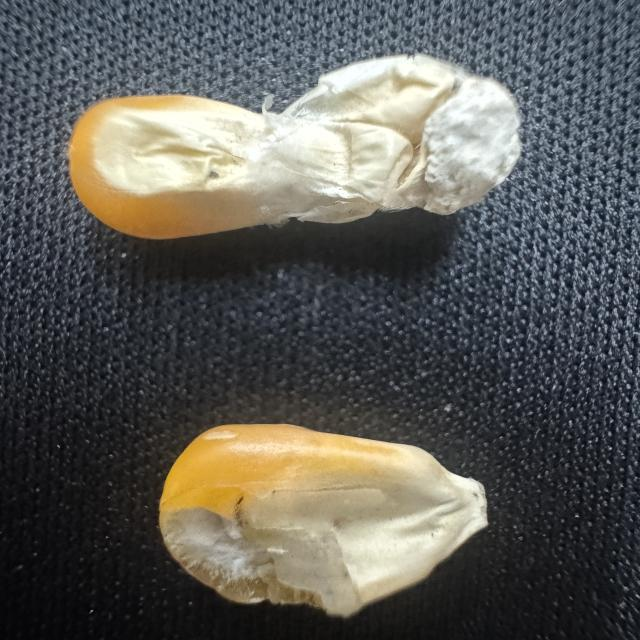Bad-Seed: (53, 40, 534, 257), (138, 405, 506, 620)
